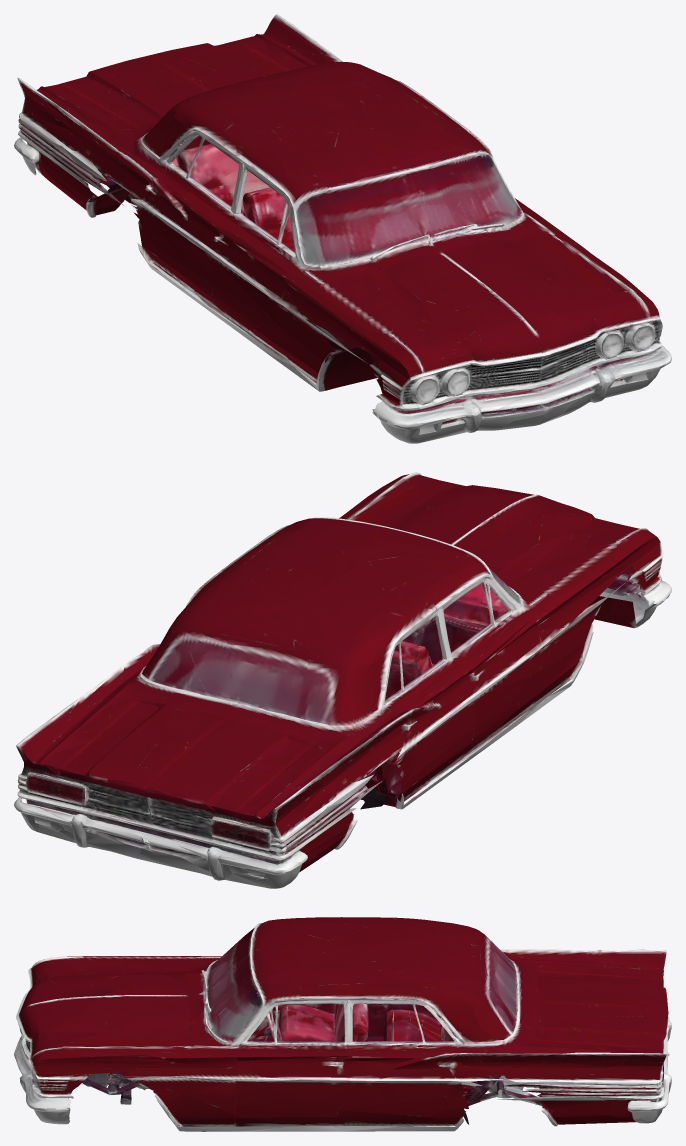
The model's file is classic.glb.
The picture shows the model from 3 angles, top to bottom: view 1: azimuth 30°, elevation 25°; view 2: azimuth 150°, elevation 25°; view 3: azimuth 270°, elevation 25°; orthographic projection. The views are drawn at different scales.
Parts seen in each view (by area): view 1: Mesh_0; view 2: Mesh_0; view 3: Mesh_0.
Part boxes in pixels (bbox=[...]): Mesh_0: bbox=[14, 14, 671, 443]; Mesh_0: bbox=[14, 472, 671, 888]; Mesh_0: bbox=[14, 917, 671, 1131].
Size of the model in its own units: 0.4082 by 0.2458 by 1.
1 material, 1 textured.
